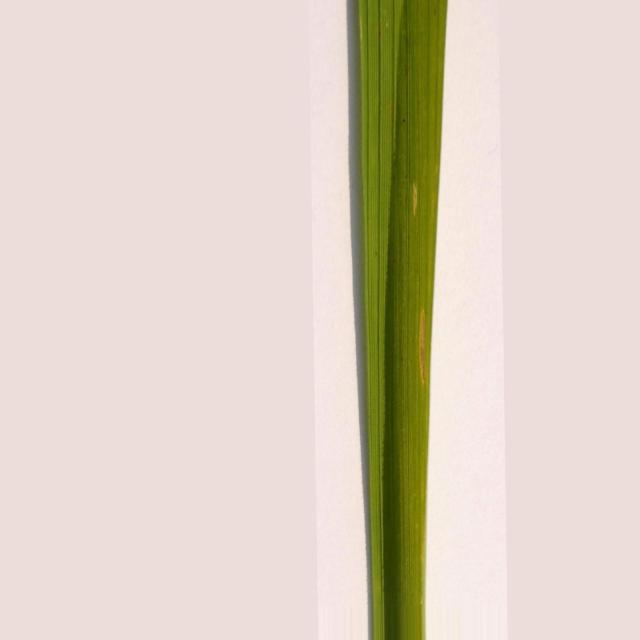Bacterial_Leaf_Blight: (419, 310, 425, 384), (412, 184, 418, 215)
